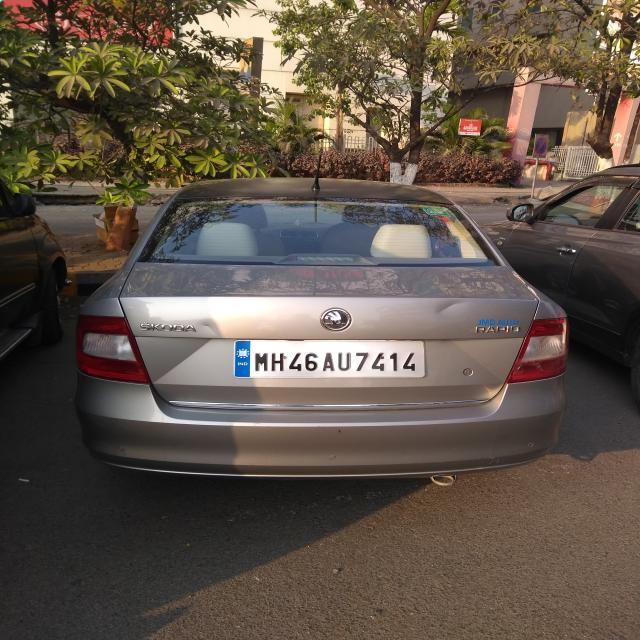Number-Plate: (235, 344, 427, 381)
